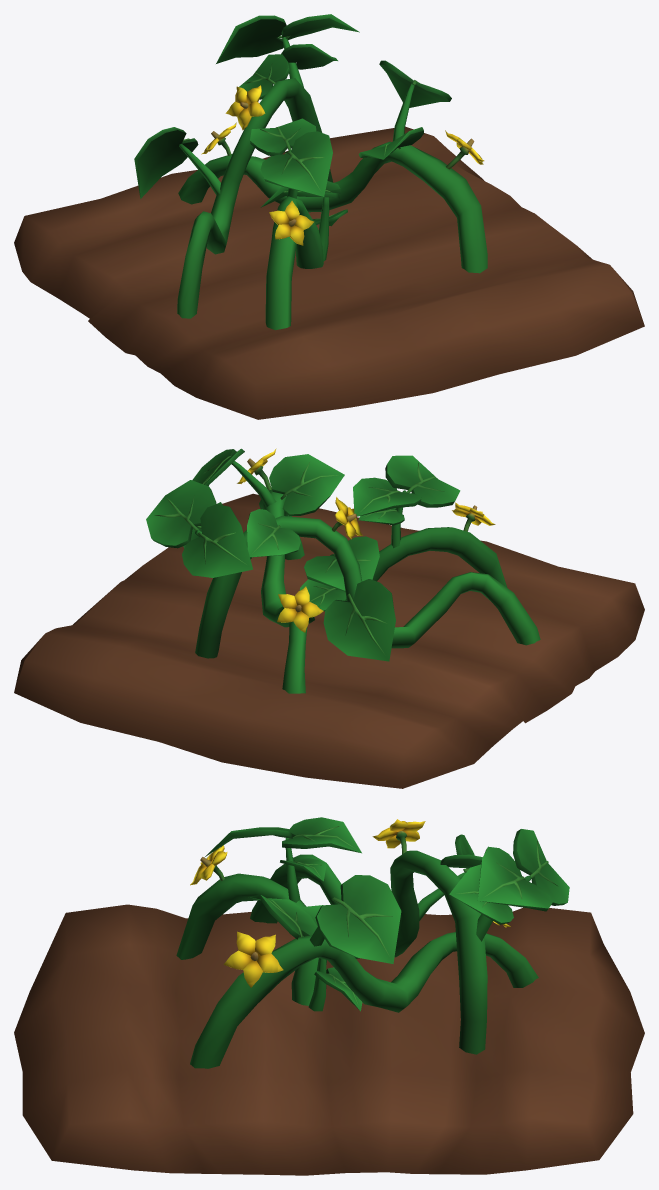
Rendered from SM_PlantSoil_Pumpkin_Lv3.fbx.
The picture shows the model from 3 angles, top to bottom: view 1: azimuth 30°, elevation 25°; view 2: azimuth 150°, elevation 25°; view 3: azimuth 270°, elevation 25°; orthographic projection. The views are drawn at different scales.
Parts seen in each view (by area): view 1: SM_PlantSoil_Pumpkin_Lv3; view 2: SM_PlantSoil_Pumpkin_Lv3; view 3: SM_PlantSoil_Pumpkin_Lv3.
Boxes of the visible parts, left/top/right/bottom form: SM_PlantSoil_Pumpkin_Lv3: left=14, top=14, right=644, bottom=419; SM_PlantSoil_Pumpkin_Lv3: left=14, top=448, right=644, bottom=788; SM_PlantSoil_Pumpkin_Lv3: left=14, top=817, right=644, bottom=1175.
Size of the model in its own units: 96.14 by 46.02 by 103.
